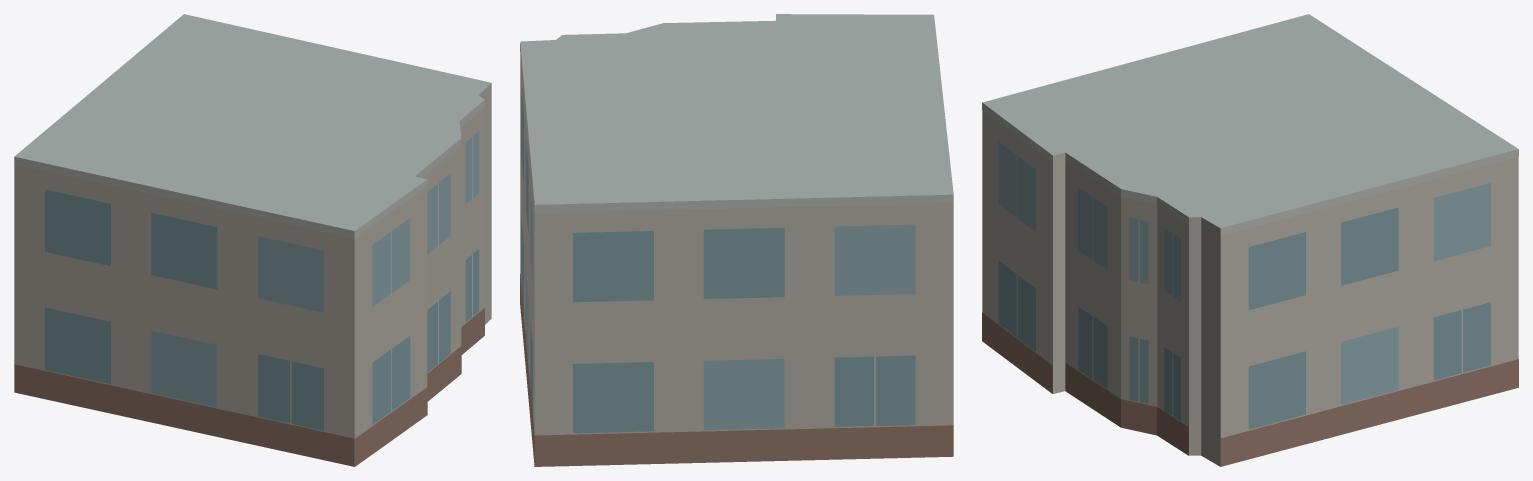
File: survey-upis-32655386.glb
The picture shows the model from 3 angles, left to right: view 1: azimuth 30°, elevation 25°; view 2: azimuth 150°, elevation 25°; view 3: azimuth 270°, elevation 25°; orthographic projection. The views are drawn at different scales.
Parts seen in each view (by area): view 1: survey-upis-32655386.tmp; view 2: survey-upis-32655386.tmp; view 3: survey-upis-32655386.tmp.
Part boxes in pixels (x1=…): survey-upis-32655386.tmp: x1=14, y1=14, x2=491, y2=466; survey-upis-32655386.tmp: x1=520, y1=14, x2=953, y2=466; survey-upis-32655386.tmp: x1=982, y1=14, x2=1518, y2=466.
Size of the model in its own units: 14.64 by 7.6 by 15.5.
